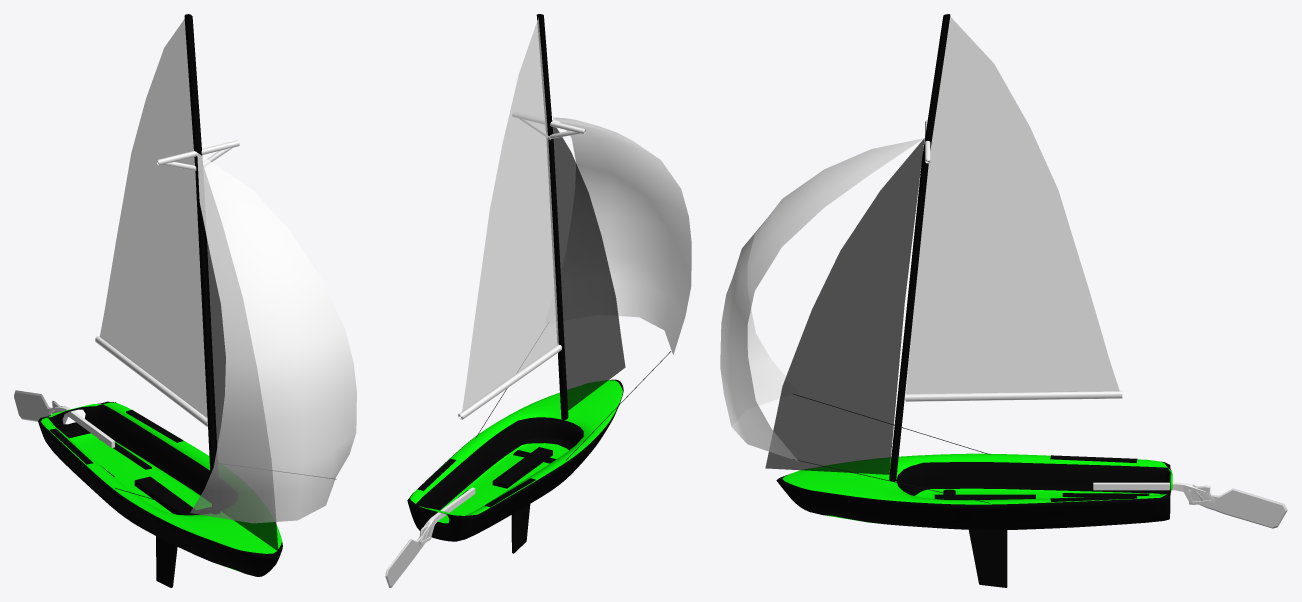
File: SailingBoat470gamemodesl.fbx
3 views of the same model, side by side, from view 1: azimuth 30°, elevation 25°; view 2: azimuth 150°, elevation 25°; view 3: azimuth 270°, elevation 25° (orthographic). The views are drawn at different scales.
Visible parts, largest first — view 1: jibsail:SpinSail1, mainbort:Body3, pCube17, rader:oar, pCube13, pCube10; view 2: mainbort:Body3, jibsail:SpinSail1, pCube17, rader:oar, pCube13; view 3: mainbort:Body3, pCube17, jibsail:SpinSail1, rader:oar, pCube13.
Part boxes in pixels (box(x1,y1,x2,y2)): jibsail:SpinSail1: box(115, 153, 356, 523); mainbort:Body3: box(38, 14, 282, 587); pCube17: box(95, 19, 207, 427); rader:oar: box(14, 390, 60, 421); pCube13: box(49, 405, 114, 447); pCube10: box(157, 140, 239, 165); mainbort:Body3: box(407, 14, 625, 553); jibsail:SpinSail1: box(475, 117, 691, 460); pCube17: box(458, 17, 561, 419); rader:oar: box(385, 525, 431, 587); pCube13: box(418, 487, 475, 544); mainbort:Body3: box(765, 14, 1172, 587); pCube17: box(905, 17, 1122, 401); jibsail:SpinSail1: box(720, 138, 990, 503); rader:oar: box(1189, 485, 1287, 528); pCube13: box(1093, 482, 1214, 504).
Size of the model in its own units: 23.1 by 88.77 by 79.78.
